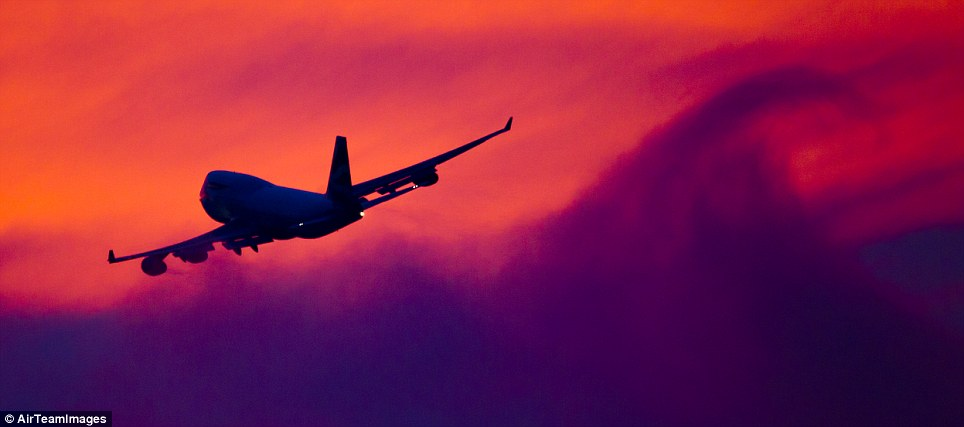plane: (108, 114, 511, 276)
